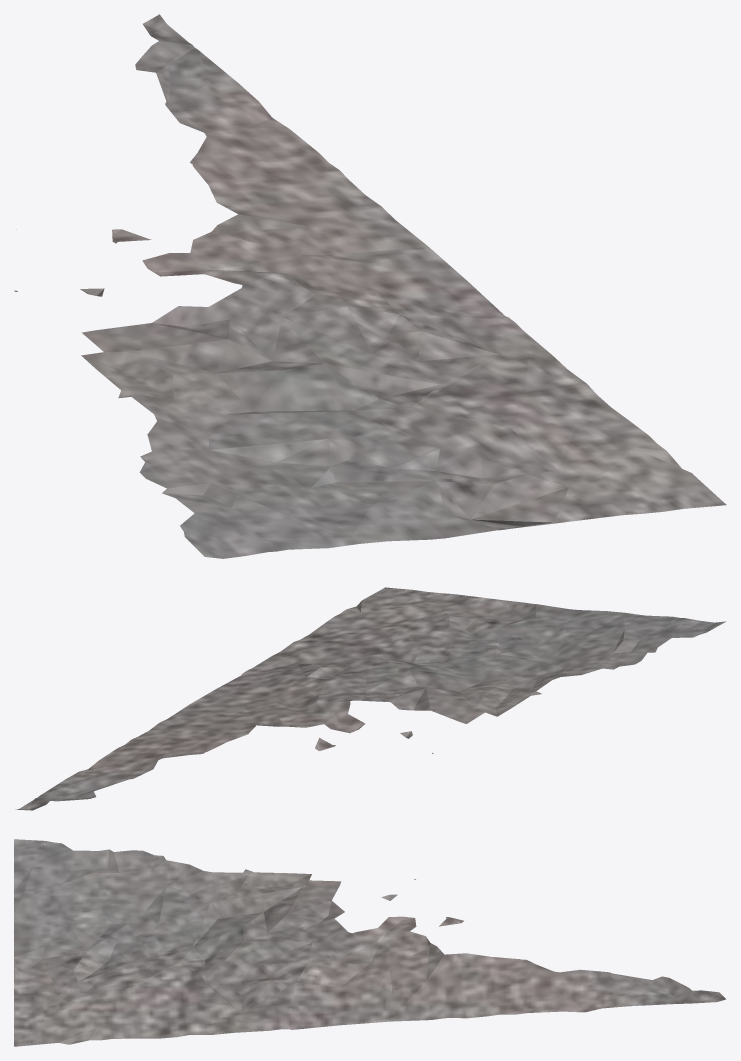
The picture shows the model from 3 angles, top to bottom: view 1: azimuth 30°, elevation 25°; view 2: azimuth 150°, elevation 25°; view 3: azimuth 270°, elevation 25°; orthographic projection. The views are drawn at different scales.
Bounding box in the file's own units: 0.602 × 0.0832 × 1.13.
1 material, 1 textured.
